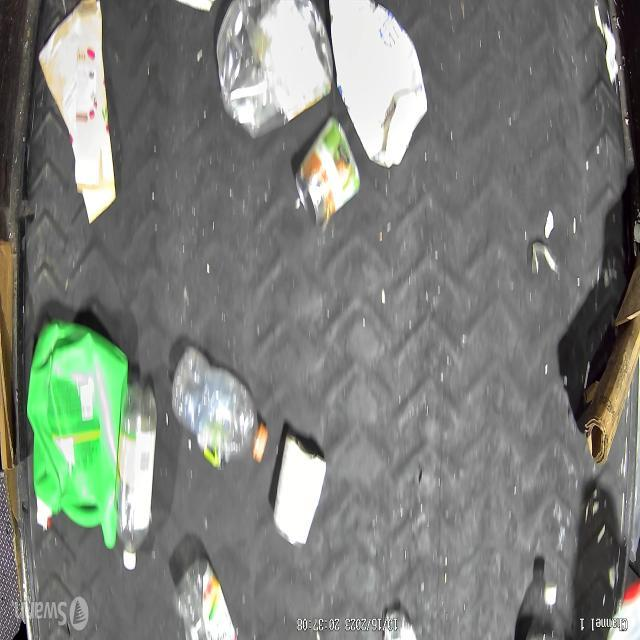can: (220, 0, 328, 142), (293, 116, 364, 230), (271, 424, 328, 558)
milk_jug: (326, 0, 428, 176)
non_white_jug: (28, 317, 132, 561)
plastic_bottle: (170, 338, 268, 478), (109, 376, 161, 576)
